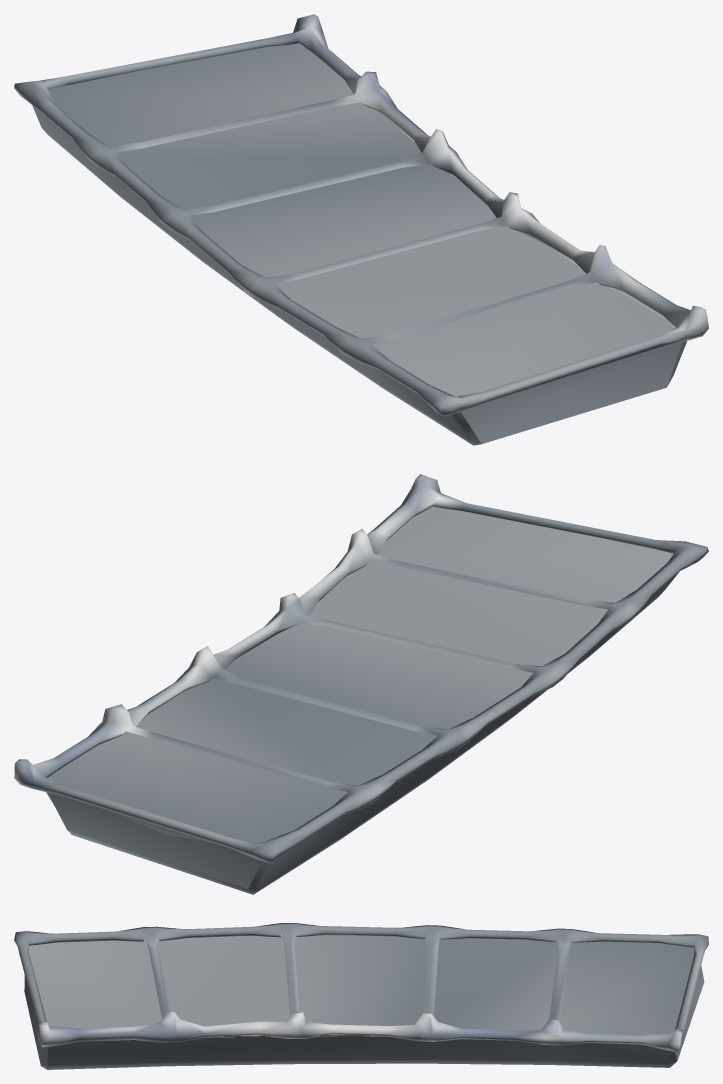
File: PlatformSpiralLarge.gltf
3 renders of one model, top to bottom at view 1: azimuth 30°, elevation 25°; view 2: azimuth 150°, elevation 25°; view 3: azimuth 270°, elevation 25°, orthographic. The views are drawn at different scales.
Visible parts, largest first — view 1: PlatformSpiralLargeMesh; view 2: PlatformSpiralLargeMesh; view 3: PlatformSpiralLargeMesh.
Boxes of the visible parts, x1=… form: PlatformSpiralLargeMesh: x1=14, y1=14, x2=708, y2=445; PlatformSpiralLargeMesh: x1=14, y1=474, x2=708, y2=894; PlatformSpiralLargeMesh: x1=14, y1=923, x2=708, y2=1069.
Size of what is drawn, in the model's own units: 6.04 by 1.48 by 14.44.
